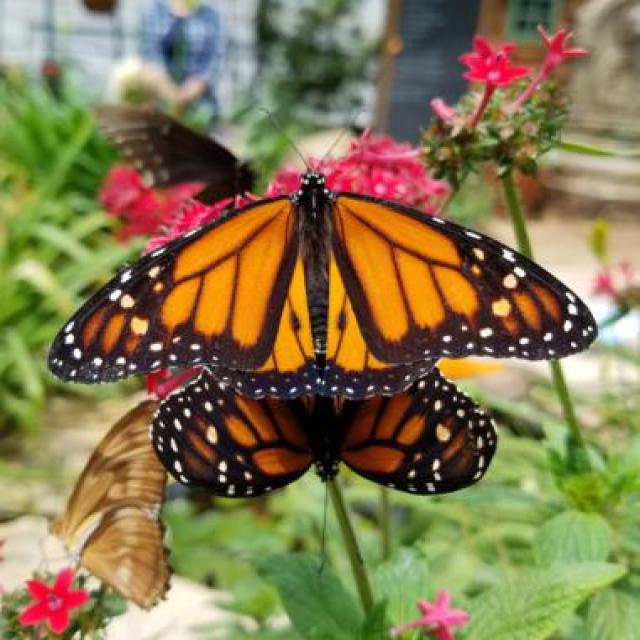antennae: (242, 100, 399, 186), (308, 483, 374, 583)
body: (293, 166, 339, 367), (308, 376, 346, 485)
insect: (46, 100, 597, 398), (148, 371, 498, 499)
wings: (319, 190, 597, 396), (53, 194, 321, 402), (154, 372, 312, 501), (344, 376, 501, 495)
